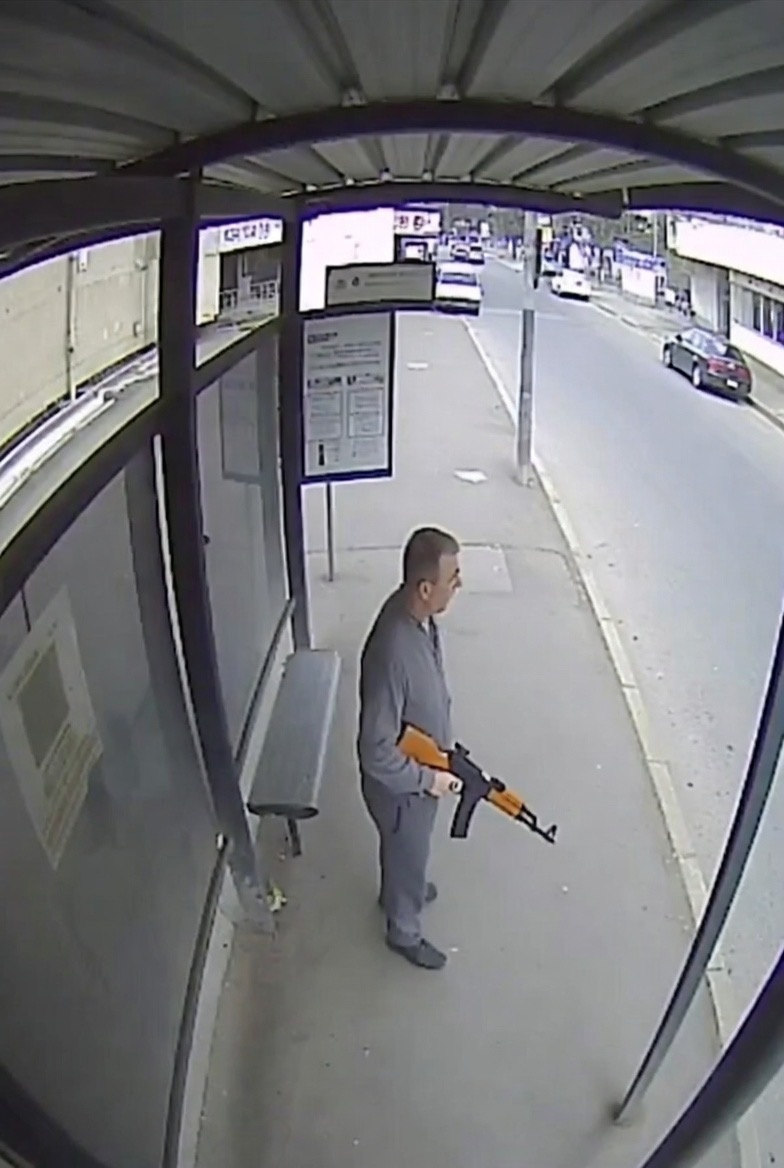gun: (400, 713, 575, 858)
person: (372, 519, 459, 971)
